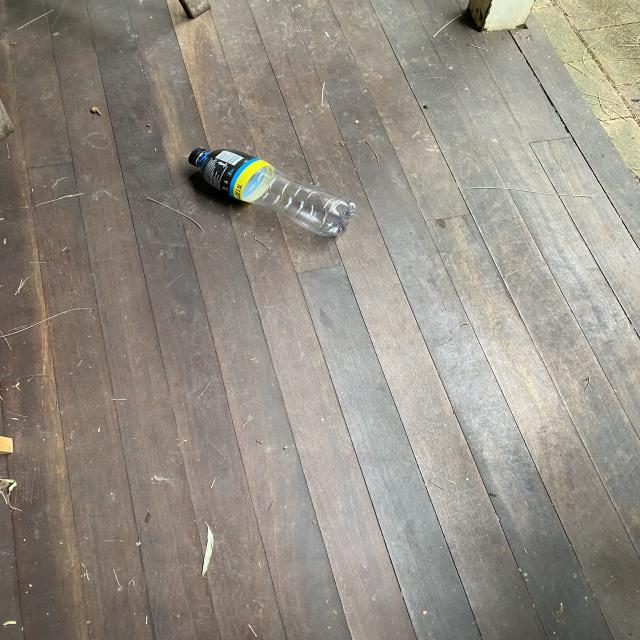bottle: (186, 146, 360, 238)
